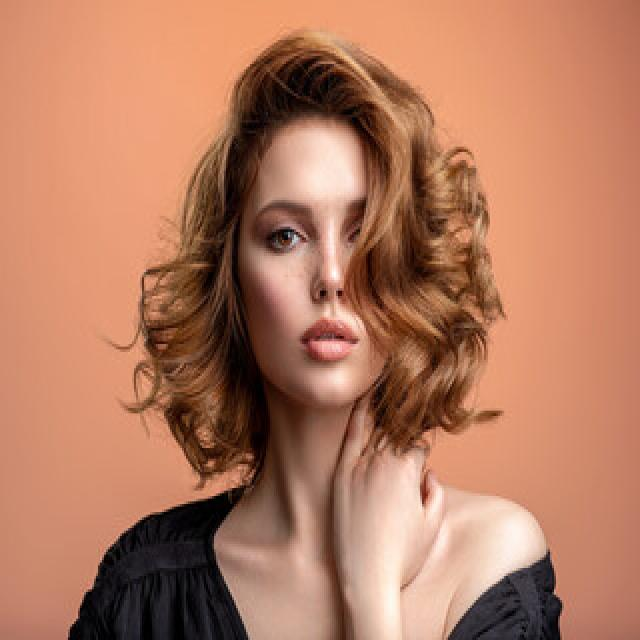Nonhelmet: (205, 47, 446, 414)
